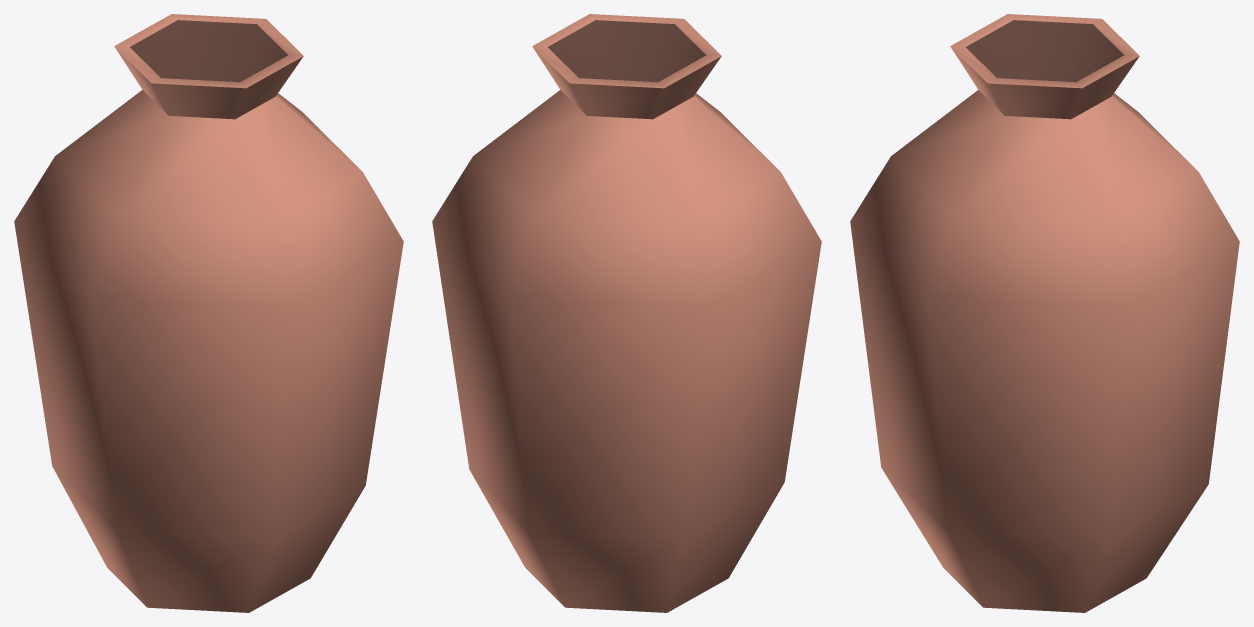
The model's file is n4_jug_003_lev4.glb.
3 renders of one model, left to right at view 1: azimuth 30°, elevation 25°; view 2: azimuth 150°, elevation 25°; view 3: azimuth 270°, elevation 25°, orthographic.
Visible parts, largest first — view 1: n4_jug_003_lev4; view 2: n4_jug_003_lev4; view 3: n4_jug_003_lev4.
Boxes of the visible parts, x1,y1,x2,y2 form: n4_jug_003_lev4: (14,14,403,612); n4_jug_003_lev4: (432,14,821,612); n4_jug_003_lev4: (850,14,1239,612).
Bounding box in the file's own units: 0.6894 × 1.1 × 0.7435.
Materials: 1 (1 with a texture image).
